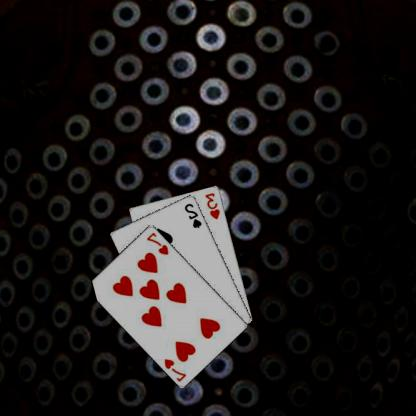2S: (184, 201, 205, 229)
3H: (204, 190, 223, 220)
7H: (146, 229, 172, 256), (164, 356, 189, 383)
